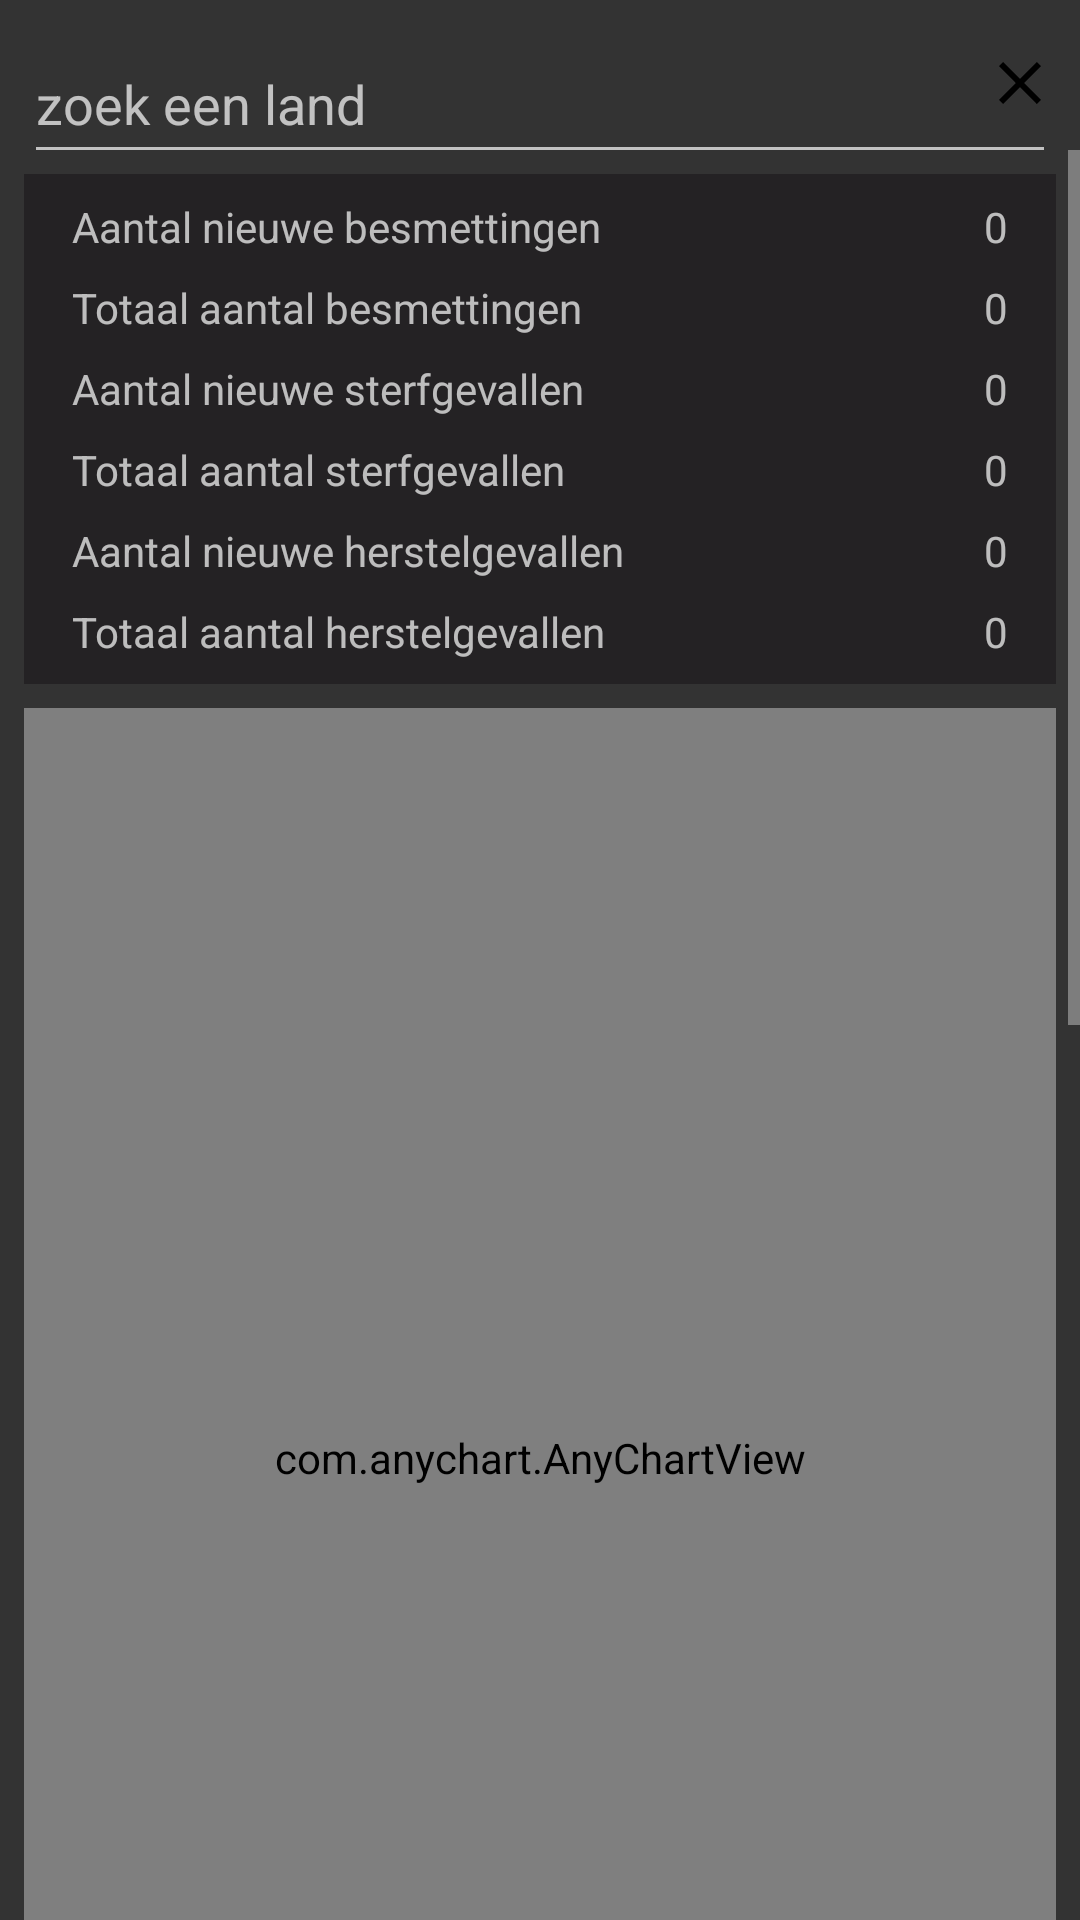

Screen size 1080x1920. Icon name, then its box in pixels as (x1, y1, x2, y2):
clear: (999, 62, 1041, 104)
